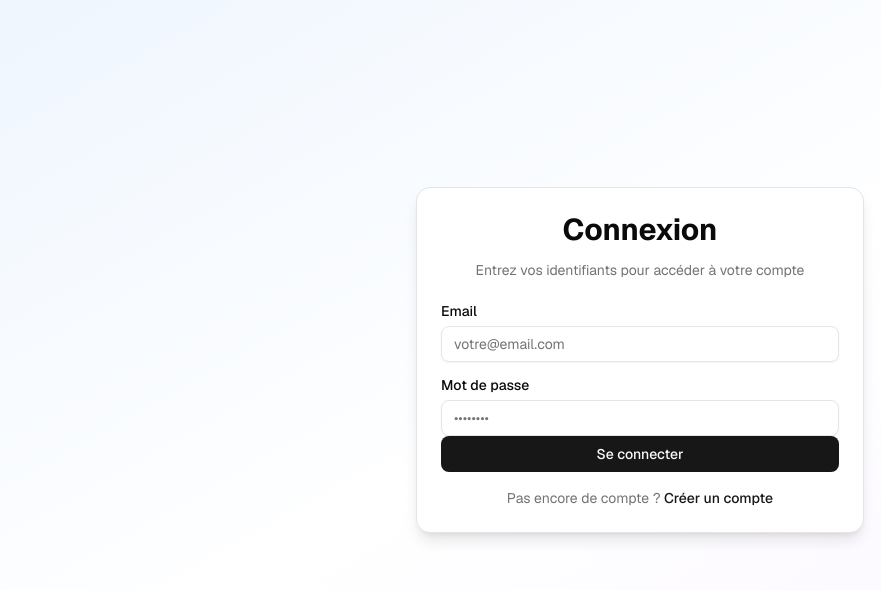
Scenario: LoginPage › affiche l'erreur du serveur en cas d'échec
In the field labelled "Email": (640, 344) [441,326,839,362], type "test@test.com"
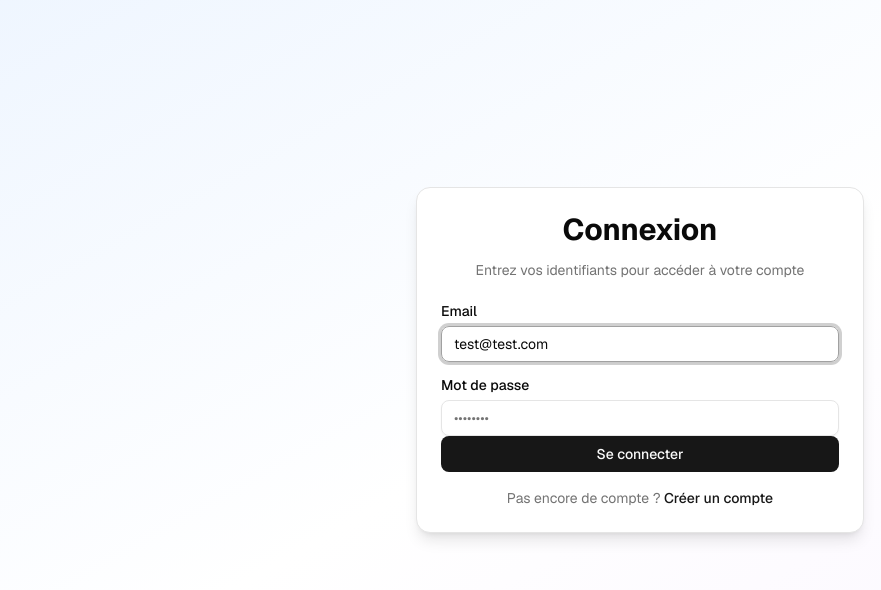
In the password field labelled "Mot de passe": (640, 418) [441,400,839,436], type "wrongpassword"
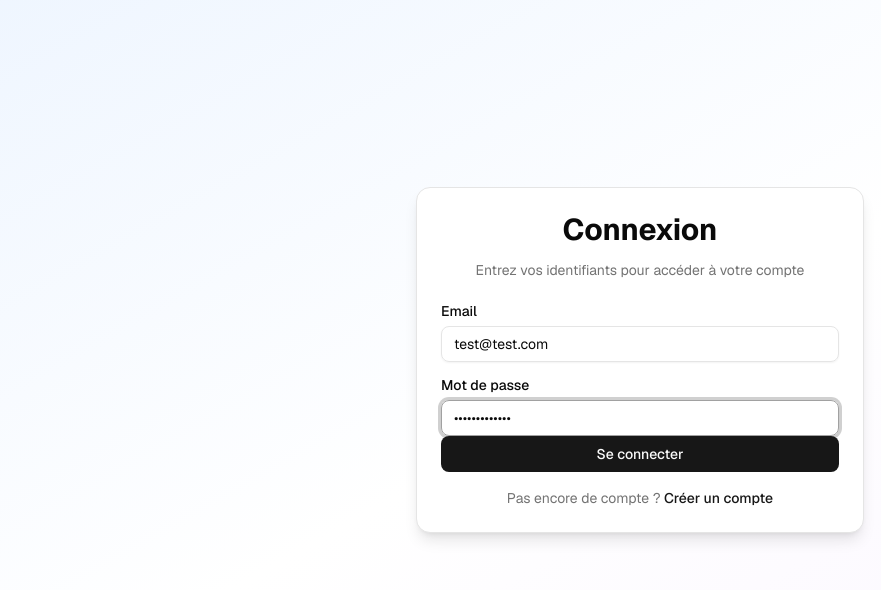
Click the button "Se connecter": click(640, 454) [441,436,839,472]
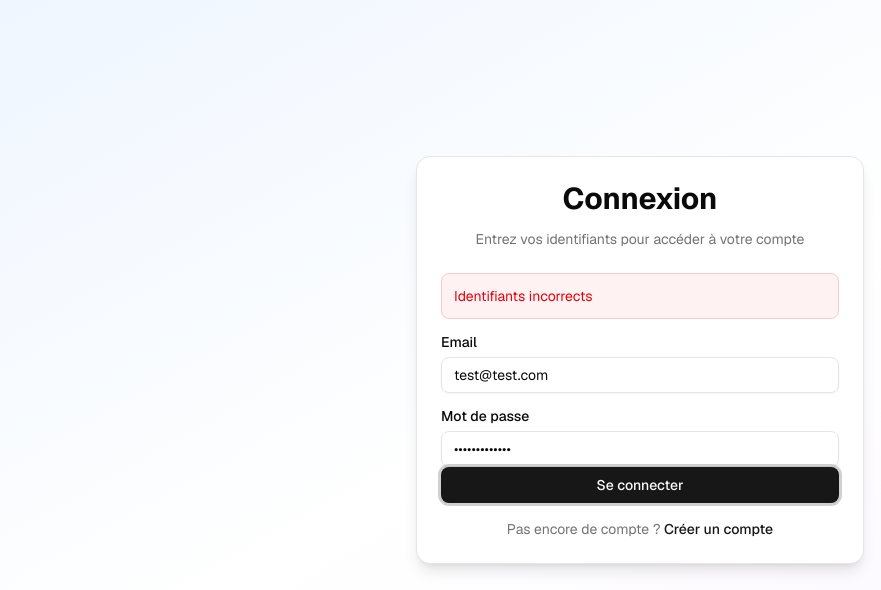
Now the text "Identifiants incorrects" is shown, box [441,273,839,319]
